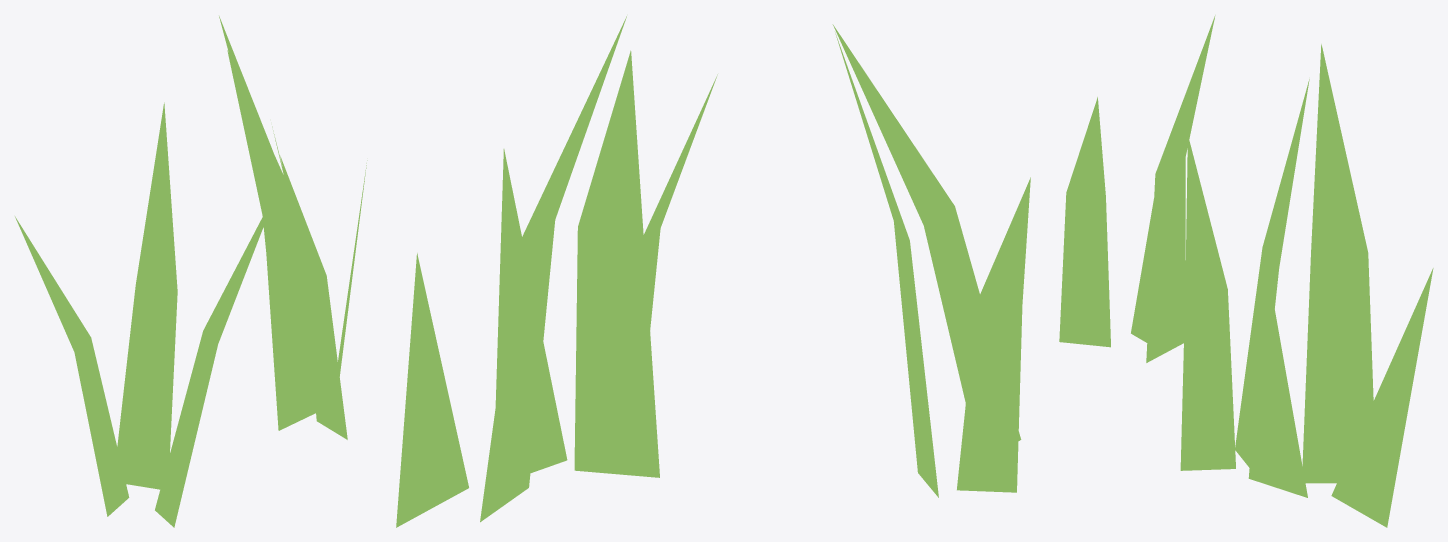
File: Grass_a_OneS_05.fbx
3 renders of one model, left to right at view 1: azimuth 30°, elevation 25°; view 2: azimuth 150°, elevation 25°; view 3: azimuth 270°, elevation 25°, orthographic. The views are drawn at different scales.
Visible parts, largest first — view 1: Grass_a_OneS_05; view 2: Grass_a_OneS_05; view 3: Grass_a_OneS_05.
Part boxes in pixels (bbox=[...]): Grass_a_OneS_05: bbox=[15, 16, 367, 527]; Grass_a_OneS_05: bbox=[396, 16, 1030, 527]; Grass_a_OneS_05: bbox=[1059, 15, 1433, 527].
Bounding box in the file's own units: 0.7154 × 0.69 × 0.5667.
